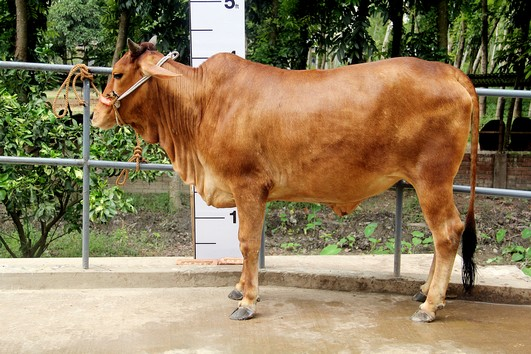cow: (83, 37, 480, 332)
